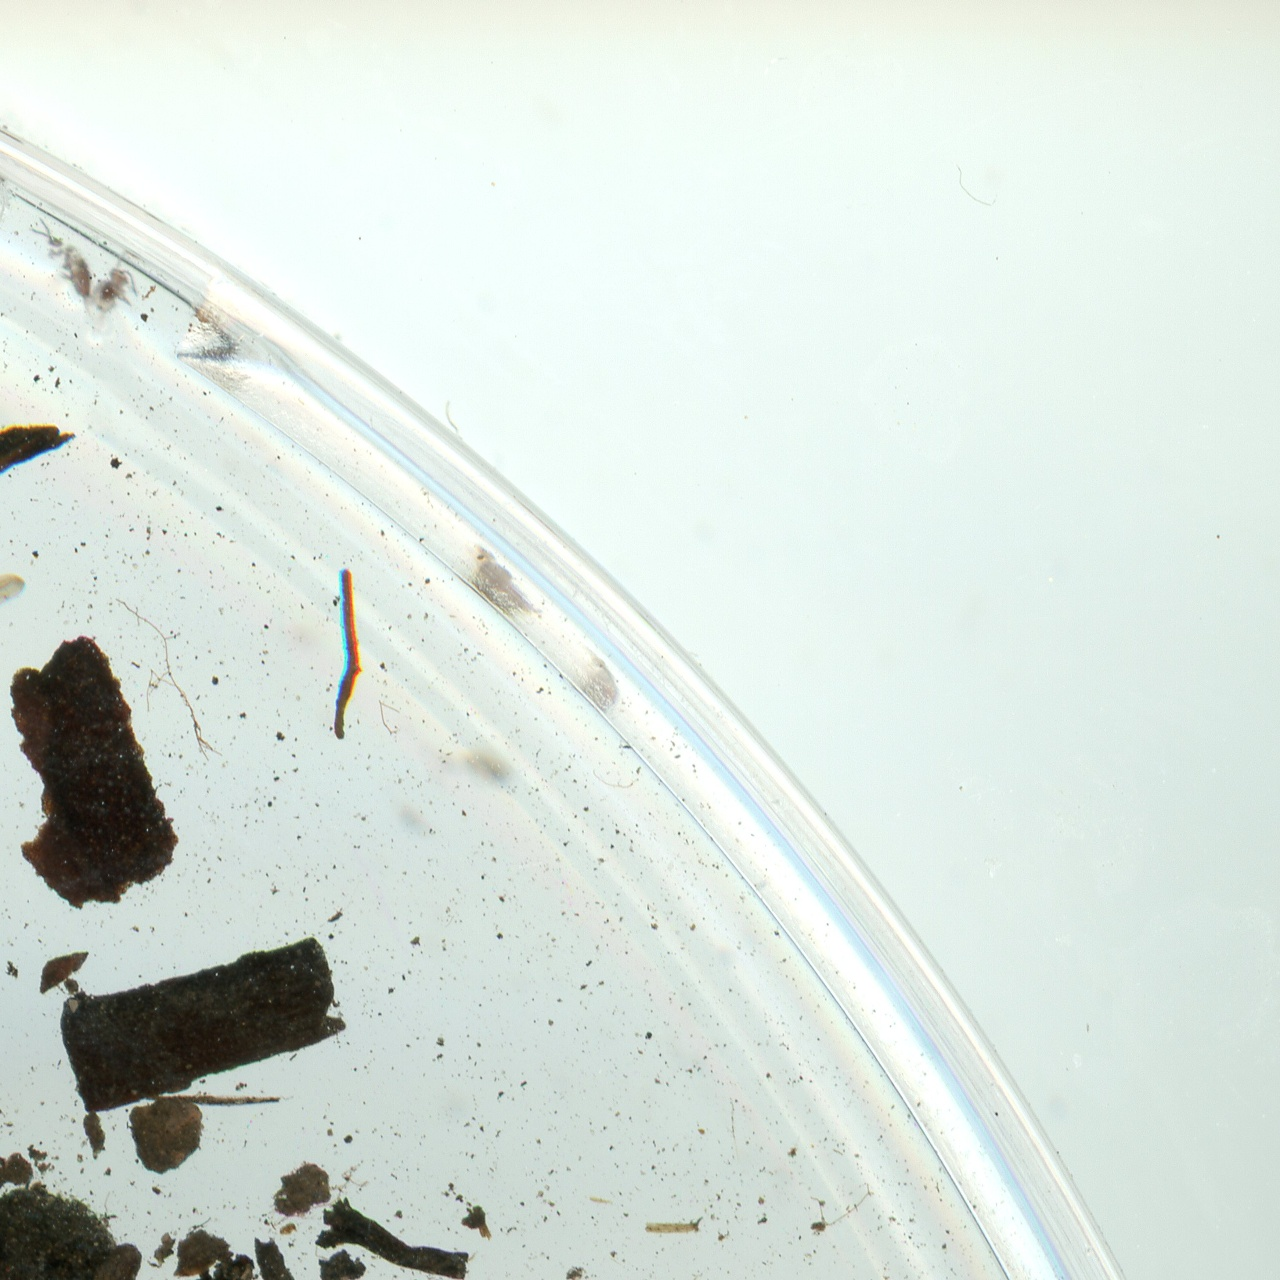arthropod: (26, 215, 98, 325), (88, 253, 141, 328)
